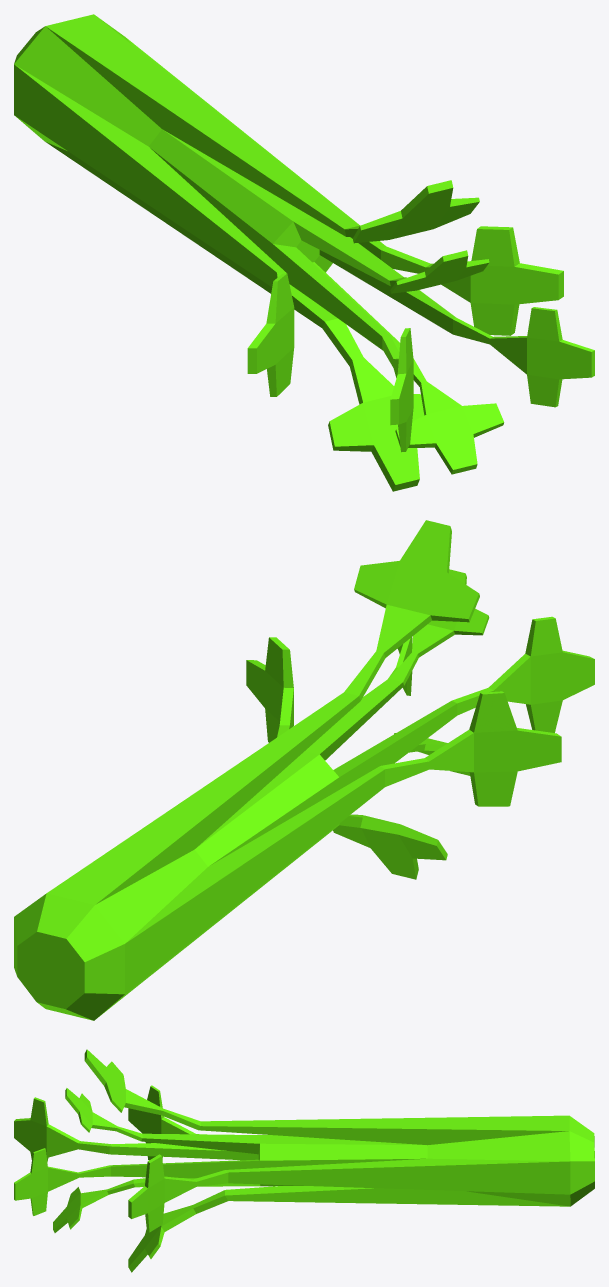
Rendered from Celery.obj.
3 views of the same model, one above another, from view 1: azimuth 30°, elevation 25°; view 2: azimuth 150°, elevation 25°; view 3: azimuth 270°, elevation 25° (orthographic). The views are drawn at different scales.
Parts seen in each view (by area): view 1: leek.002; view 2: leek.002; view 3: leek.002.
Part boxes in pixels (<box>): leek.002: <box>14,14,594,491</box>; leek.002: <box>14,520,594,1020</box>; leek.002: <box>14,1049,594,1272</box>.
Size of the model in its own units: 0.1432 by 0.1429 by 0.3487.
